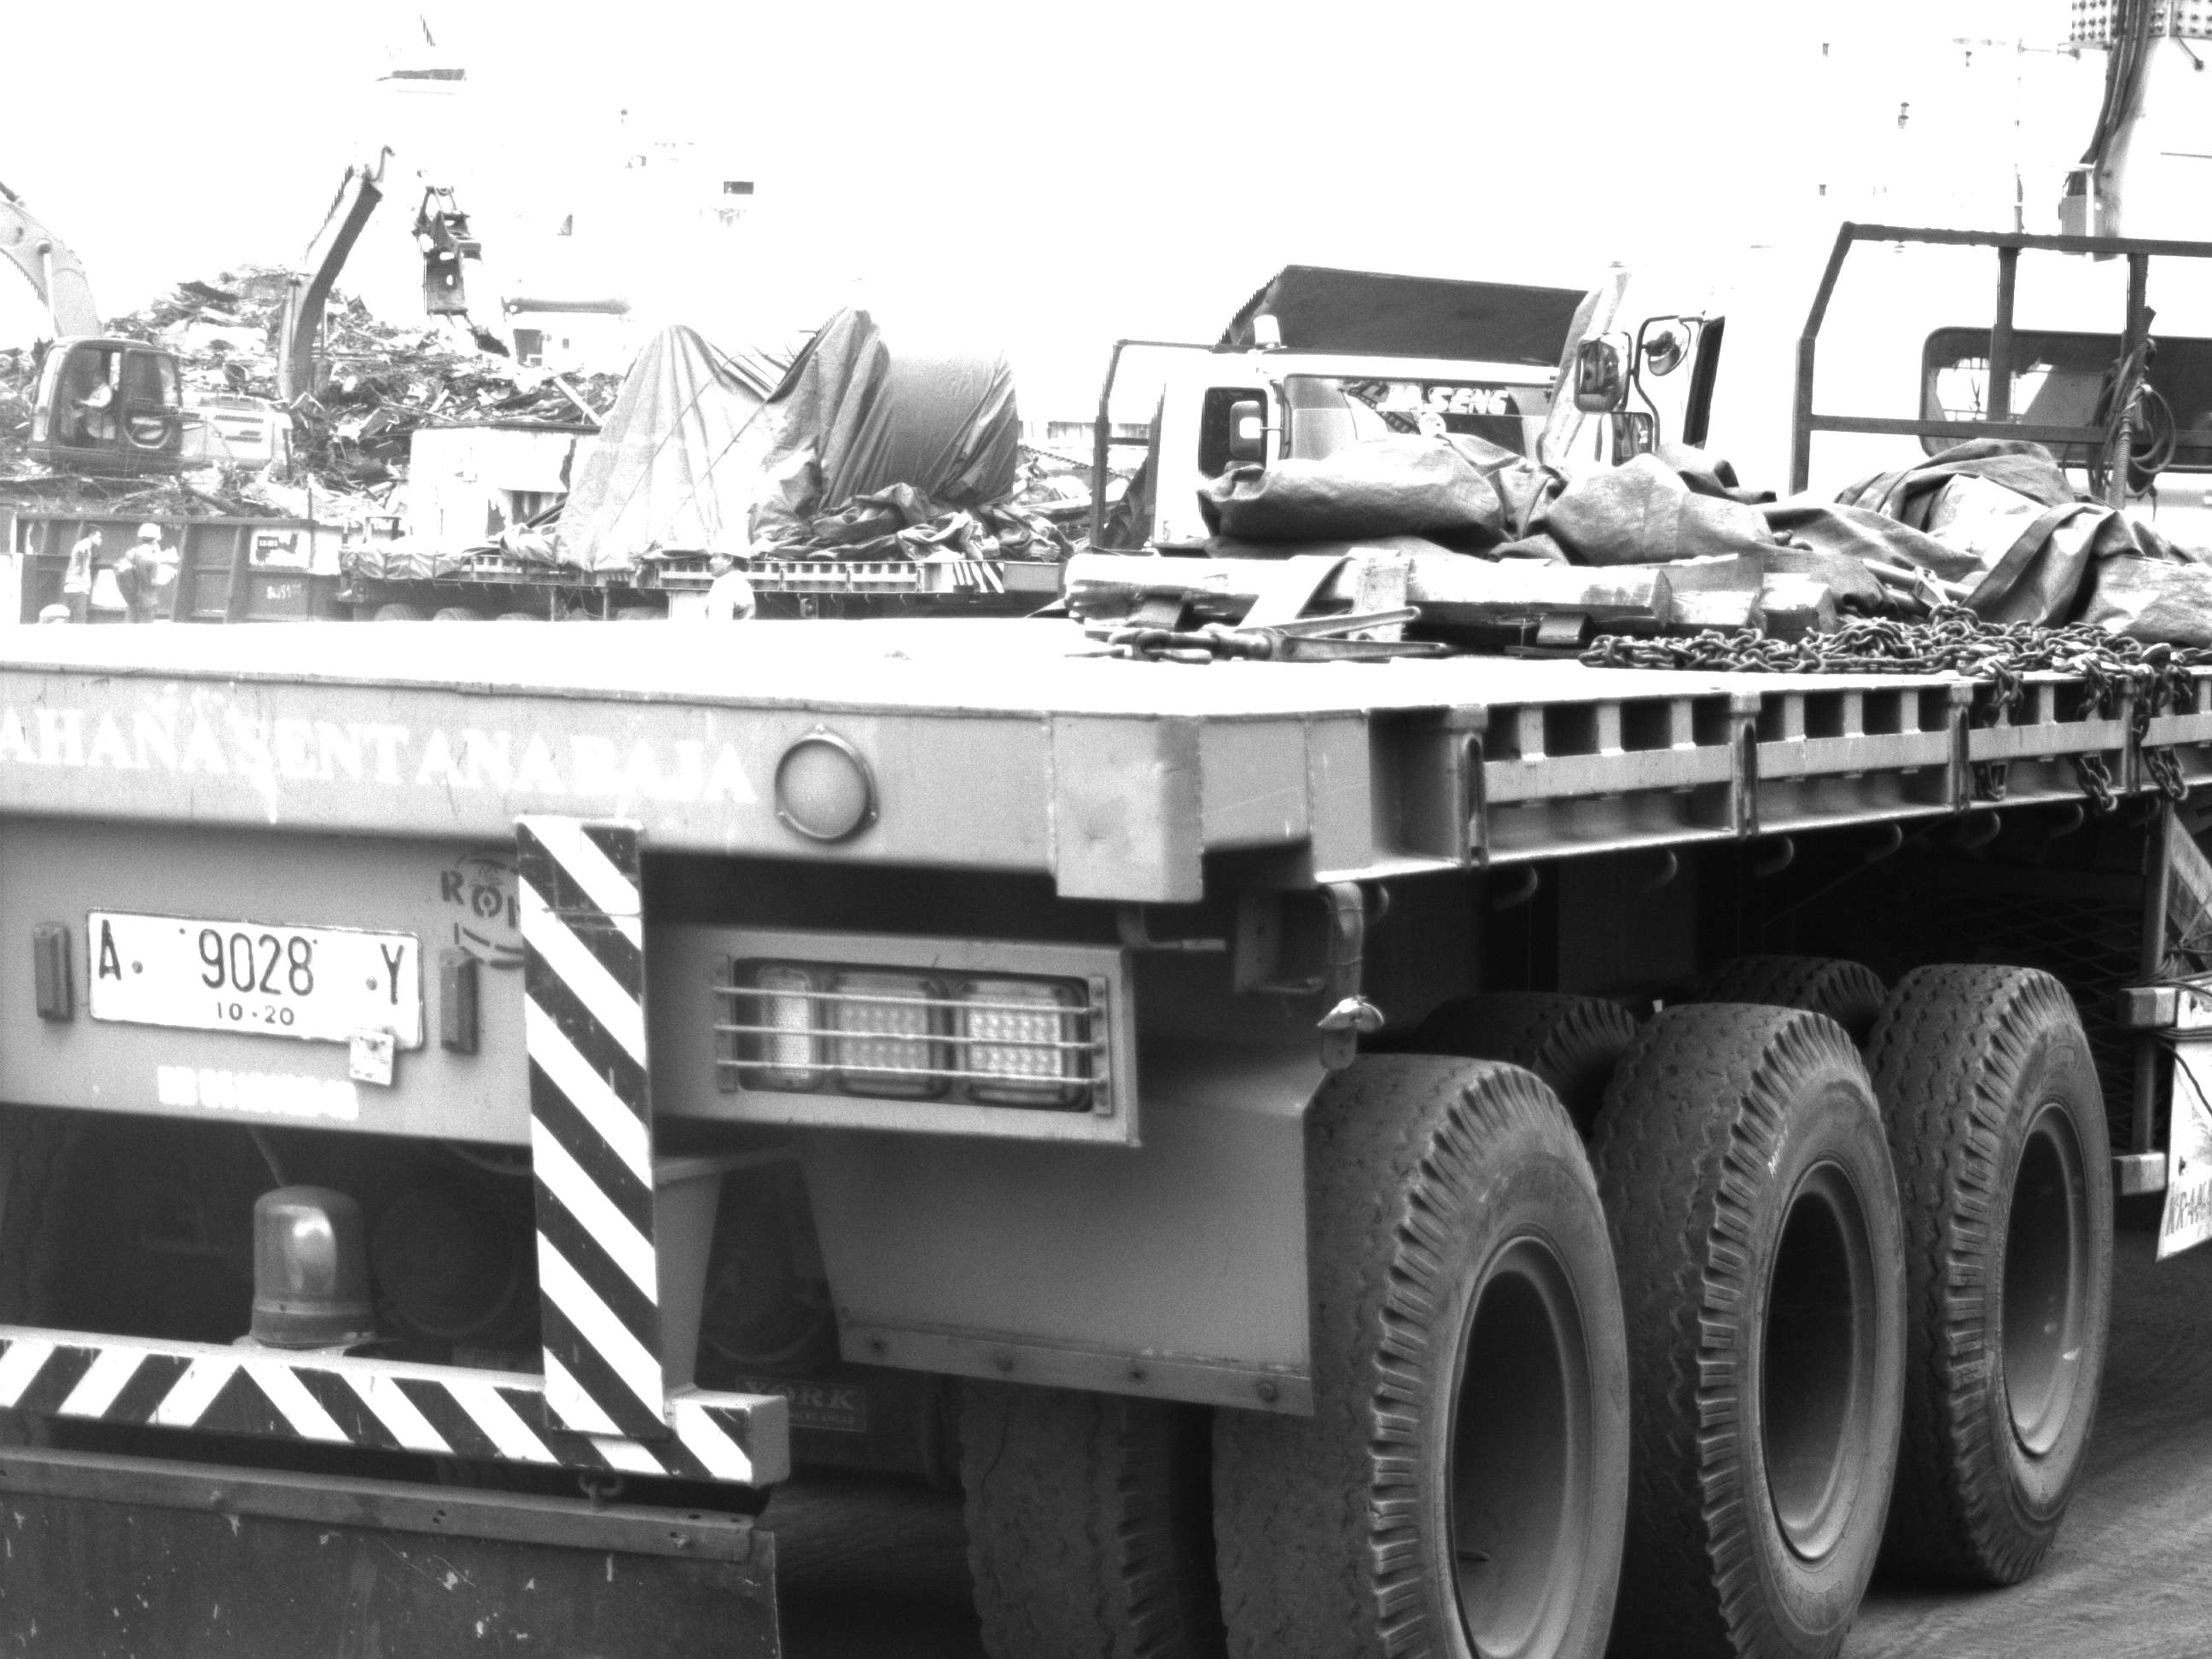number_plate: (77, 907, 431, 1051)
truck_backside: (20, 374, 2207, 1659)
